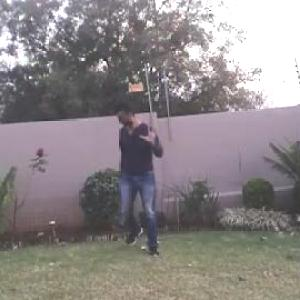follow_hand: (138, 117, 161, 146)
